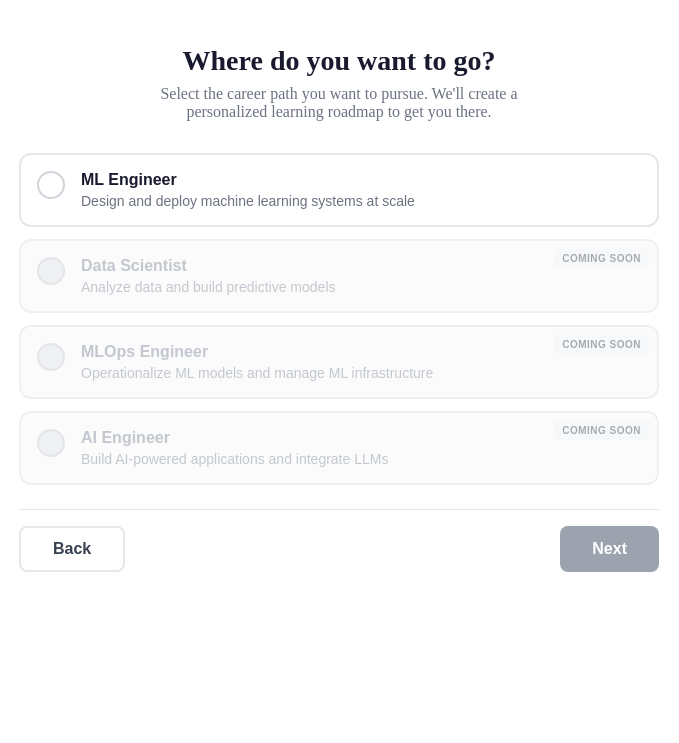
Step2TargetRole › Next button behavior › should enable Next button after selecting ML Engineer
Click the radio button with test id "target-role-card-ml_engineer".
click(129, 180)  # box [19,153,659,227]
(page scrolled)
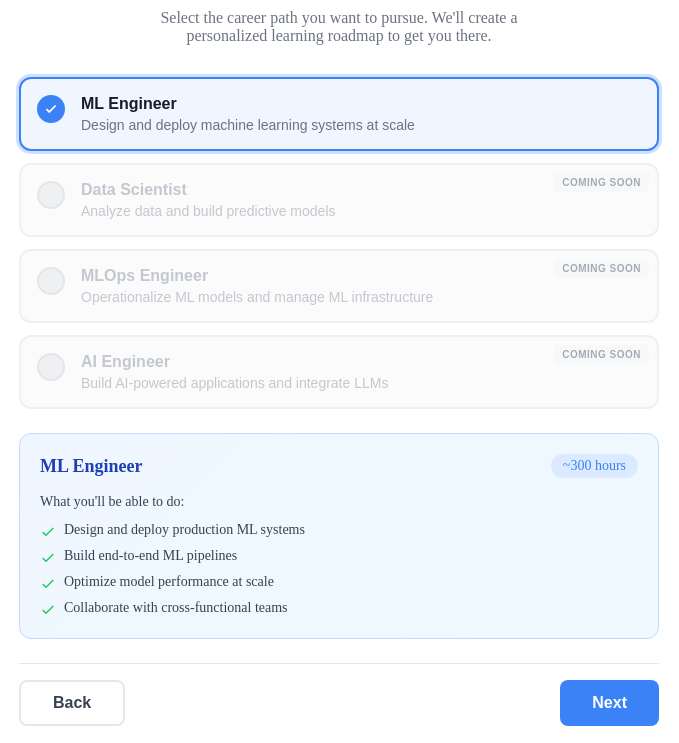
Result: the button with test id "next-button" is enabled at [560,680,659,726]
